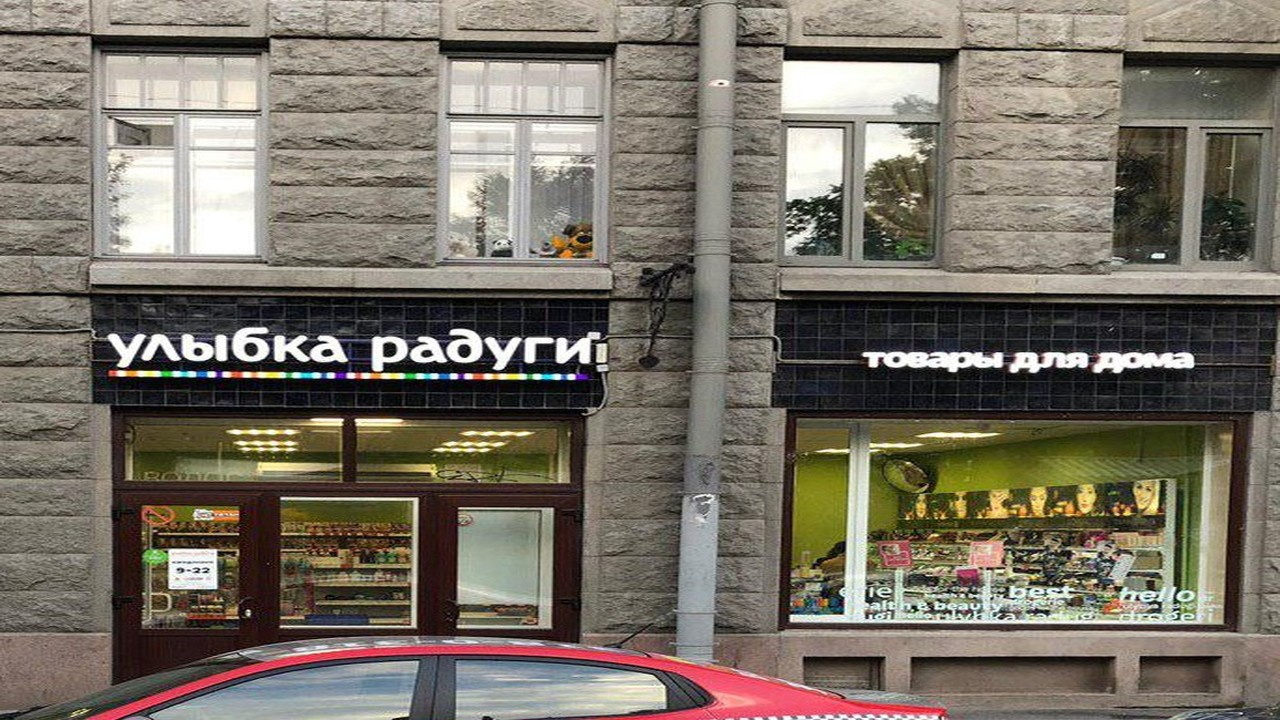signboard: (101, 319, 595, 385), (858, 342, 1200, 379)
window: (779, 416, 1244, 627), (88, 45, 269, 254), (438, 45, 614, 259), (775, 55, 947, 264), (1124, 57, 1272, 270)
